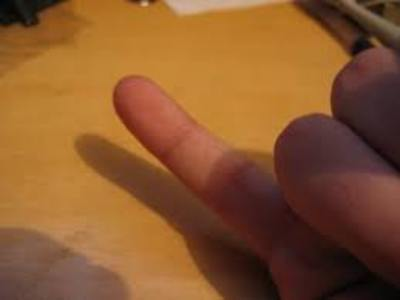mindinho: (97, 62, 287, 247)
